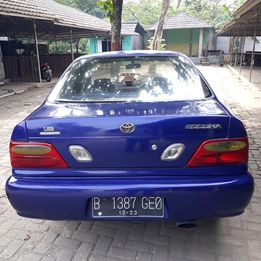plate: (88, 195, 169, 216)
